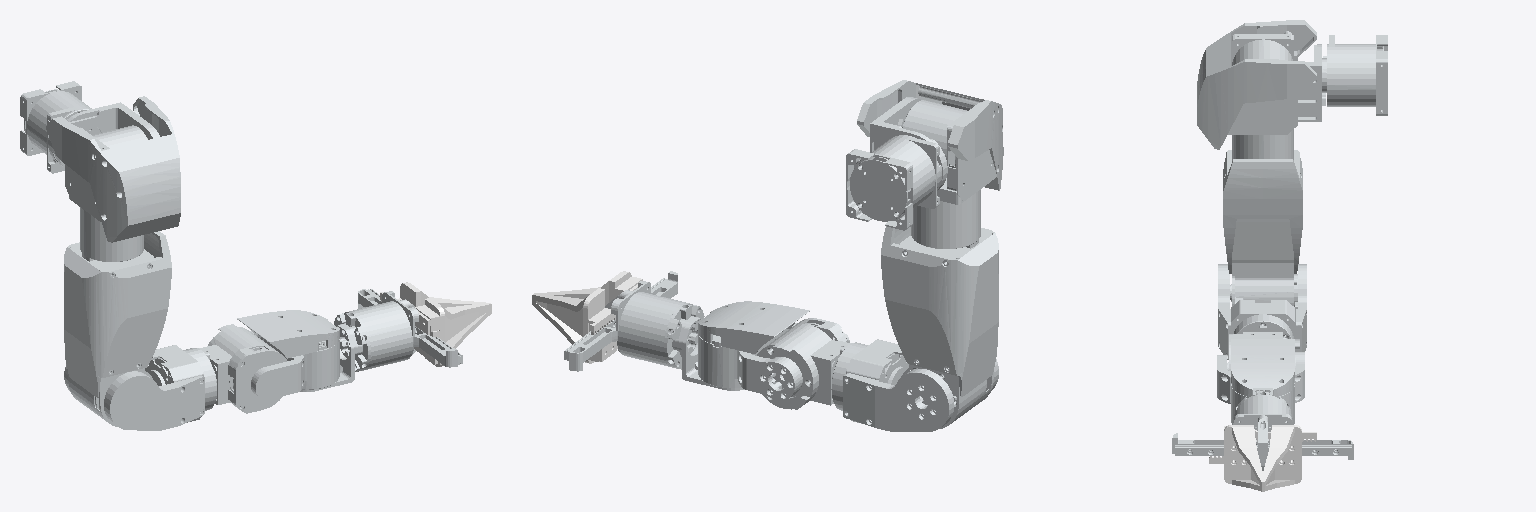
URDF robot description (x7sRIGHT):
<?xml version="1.0" encoding="utf-8"?>
<!-- This URDF was automatically created by SolidWorks to URDF Exporter! Originally created by [author] ([email redacted]) 
     Commit Version: 1.6.0-4-g7f85cfe  Build Version: 1.6.7995.38578
     For more information, please see http://wiki.ros.org/sw_urdf_exporter -->
<robot
  name="x7sRIGHT">
  <link
    name="base_link">
    <inertial>
      <origin
        xyz="-0.00022525 -0.028323 -1.2423E-08"
        rpy="0 0 0" />
      <mass
        value="0.42055" />
      <inertia
        ixx="0.00020"
        ixy="0.00000"
        ixz="0.00000"
        iyy="0.00020"
        iyz="0.00000"
        izz="0.00020" />
    </inertial>
    <visual>
      <origin
        xyz="0 0 0"
        rpy="0 0 0" />
      <geometry>
        <mesh
          filename="package://x7sRIGHT/meshes/base_link.STL" />
      </geometry>
      <material
        name="">
        <color
          rgba="0.89804 0.91765 0.92941 1" />
      </material>
    </visual>
    <collision>
      <origin
        xyz="0 0 0"
        rpy="0 0 0" />
      <geometry>
        <mesh
          filename="package://x7sRIGHT/meshes/base_link.STL" />
      </geometry>
    </collision>
  </link>
  <link
    name="link1">
    <inertial>
      <origin
        xyz="0.020311877665791 0.0282074621926083 0.000172803675324393"
        rpy="0 0 0" />
      <mass
        value="0.131891884746085" />
      <inertia
        ixx="0.00012"
        ixy="0.00004"
        ixz="0.00000"
        iyy="0.00009"
        iyz="0.00000"
        izz="0.00014" />
    </inertial>
    <visual>
      <origin
        xyz="0 0 0"
        rpy="0 0 0" />
      <geometry>
        <mesh
          filename="package://x7sRIGHT/meshes/link1.STL" />
      </geometry>
      <material
        name="">
        <color
          rgba="0.898039215686275 0.917647058823529 0.929411764705882 1" />
      </material>
    </visual>
    <collision>
      <origin
        xyz="0 0 0"
        rpy="0 0 0" />
      <geometry>
        <mesh
          filename="package://x7sRIGHT/meshes/link1.STL" />
      </geometry>
    </collision>
  </link>
  <joint
    name="joint1"
    type="revolute">
    <origin
      xyz="0 -0.05325 0"
      rpy="3.1416 0 0" />
    <parent
      link="base_link" />
    <child
      link="link1" />
    <axis
      xyz="0 1 0" />
    <limit
      lower="-10"
      upper="10"
      effort="100"
      velocity="1000" />
  </joint>
  <link
    name="link2">
    <inertial>
      <origin
        xyz="0.0244518746422159 0.00440118072836622 -0.0251861194488471"
        rpy="0 0 0" />
      <mass
        value="1.03161748745213" />
      <inertia
        ixx="0.00167"
        ixy="-0.00003"
        ixz="-0.00007"
        iyy="0.00166"
        iyz="0.00005"
        izz="0.00088" />
    </inertial>
    <visual>
      <origin
        xyz="0 0 0"
        rpy="0 0 0" />
      <geometry>
        <mesh
          filename="package://x7sRIGHT/meshes/link2.STL" />
      </geometry>
      <material
        name="">
        <color
          rgba="0.898039215686275 0.917647058823529 0.929411764705882 1" />
      </material>
    </visual>
    <collision>
      <origin
        xyz="0 0 0"
        rpy="0 0 0" />
      <geometry>
        <mesh
          filename="package://x7sRIGHT/meshes/link2.STL" />
      </geometry>
    </collision>
  </link>
  <joint
    name="joint2"
    type="revolute">
    <origin
      xyz="0.02725 0.063 0"
      rpy="3.1416 0 3.1416" />
    <parent
      link="link1" />
    <child
      link="link2" />
    <axis
      xyz="1 0 0" />
    <limit
      lower="-10"
      upper="10"
      effort="100"
      velocity="1000" />
  </joint>
  <link
    name="link3">
    <inertial>
      <origin
        xyz="0.00079596554089453 -0.00142730481079613 0.101622328145539"
        rpy="0 0 0" />
      <mass
        value="0.765521029717185" />
      <inertia
        ixx="0.00256"
        ixy="0.00000"
        ixz="-0.00009"
        iyy="0.00257"
        iyz="-0.00004"
        izz="0.00061" />
    </inertial>
    <visual>
      <origin
        xyz="0 0 0"
        rpy="0 0 0" />
      <geometry>
        <mesh
          filename="package://x7sRIGHT/meshes/link3.STL" />
      </geometry>
      <material
        name="">
        <color
          rgba="0.898039215686275 0.917647058823529 0.929411764705882 1" />
      </material>
    </visual>
    <collision>
      <origin
        xyz="0 0 0"
        rpy="0 0 0" />
      <geometry>
        <mesh
          filename="package://x7sRIGHT/meshes/link3.STL" />
      </geometry>
    </collision>
  </link>
  <joint
    name="joint3"
    type="revolute">
    <origin
      xyz="0.02725 0 -0.0865"
      rpy="3.1416 0 3.1416" />
    <parent
      link="link2" />
    <child
      link="link3" />
    <axis
      xyz="0 0 1" />
    <limit
      lower="-10"
      upper="10"
      effort="100"
      velocity="1000" />
  </joint>
  <link
    name="link4">
    <inertial>
      <origin
        xyz="0.0572757023214644 -0.0269067500949368 -0.012469744297256"
        rpy="0 0 0" />
      <mass
        value="0.512053649682313" />
      <inertia
        ixx="0.00045"
        ixy="0.00000"
        ixz="-0.00008"
        iyy="0.00061"
        iyz="0.00000"
        izz="0.00079" />
    </inertial>
    <visual>
      <origin
        xyz="0 0 0"
        rpy="0 0 0" />
      <geometry>
        <mesh
          filename="package://x7sRIGHT/meshes/link4.STL" />
      </geometry>
      <material
        name="">
        <color
          rgba="0.898039215686275 0.917647058823529 0.929411764705882 1" />
      </material>
    </visual>
    <collision>
      <origin
        xyz="0 0 0"
        rpy="0 0 0" />
      <geometry>
        <mesh
          filename="package://x7sRIGHT/meshes/link4.STL" />
      </geometry>
    </collision>
  </link>
  <joint
    name="joint4"
    type="revolute">
    <origin
      xyz="0 -0.02725 0.1435"
      rpy="-3.1416 0 0" />
    <parent
      link="link3" />
    <child
      link="link4" />
    <axis
      xyz="0 1 0" />
    <limit
      lower="-10"
      upper="10"
      effort="100"
      velocity="1000" />
  </joint>
  <link
    name="link5">
    <inertial>
      <origin
        xyz="0.0458969709559433 0.000535552755432558 -2.35788965874395E-05"
        rpy="0 0 0" />
      <mass
        value="0.487431771518004" />
      <inertia
        ixx="0.00024"
        ixy="0.00000"
        ixz="0.00000"
        iyy="0.00027"
        iyz="0.00000"
        izz="0.00029" />
    </inertial>
    <visual>
      <origin
        xyz="0 0 0"
        rpy="0 0 0" />
      <geometry>
        <mesh
          filename="package://x7sRIGHT/meshes/link5.STL" />
      </geometry>
      <material
        name="">
        <color
          rgba="0.898039215686275 0.917647058823529 0.929411764705882 1" />
      </material>
    </visual>
    <collision>
      <origin
        xyz="0 0 0"
        rpy="0 0 0" />
      <geometry>
        <mesh
          filename="package://x7sRIGHT/meshes/link5.STL" />
      </geometry>
    </collision>
  </link>
  <joint
    name="joint5"
    type="revolute">
    <origin
      xyz="0.0945 -0.02725 -0.015"
      rpy="0 0 0" />
    <parent
      link="link4" />
    <child
      link="link5" />
    <axis
      xyz="1 0 0" />
    <limit
      lower="-10"
      upper="10"
      effort="100"
      velocity="1000" />
  </joint>
  <link
    name="link6">
    <inertial>
      <origin
        xyz="0.0569901700373937 -0.0269170235590268 0.00134170614722395"
        rpy="0 0 0" />
      <mass
        value="0.438499751617276" />
      <inertia
        ixx="0.00026"
        ixy="-0.00001"
        ixz="-0.00002"
        iyy="0.00034"
        iyz="0.00000"
        izz="0.00043" />
    </inertial>
    <visual>
      <origin
        xyz="0 0 0"
        rpy="0 0 0" />
      <geometry>
        <mesh
          filename="package://x7sRIGHT/meshes/link6.STL" />
      </geometry>
      <material
        name="">
        <color
          rgba="0.898039215686275 0.917647058823529 0.929411764705882 1" />
      </material>
    </visual>
    <collision>
      <origin
        xyz="0 0 0"
        rpy="0 0 0" />
      <geometry>
        <mesh
          filename="package://x7sRIGHT/meshes/link6.STL" />
      </geometry>
    </collision>
  </link>
  <joint
    name="joint6"
    type="revolute">
    <origin
      xyz="0.05 0.02725 0"
      rpy="0 0 0" />
    <parent
      link="link5" />
    <child
      link="link6" />
    <axis
      xyz="0 1 0" />
    <limit
      lower="-10"
      upper="10"
      effort="100"
      velocity="1000" />
  </joint>
  <link
    name="link7">
    <inertial>
      <origin
        xyz="0.078237 2.2769E-05 0.020391"
        rpy="0 0 0" />
      <mass
        value="0.47185" />
      <inertia
        ixx="0.00040"
        ixy="0.00000"
        ixz="0.00006"
        iyy="0.00043"
        iyz="0.00000"
        izz="0.00064" />
    </inertial>
    <visual>
      <origin
        xyz="0 0 0"
        rpy="0 0 0" />
      <geometry>
        <mesh
          filename="package://x7sRIGHT/meshes/link7.STL" />
      </geometry>
      <material
        name="">
        <color
          rgba="0.89804 0.91765 0.92941 1" />
      </material>
    </visual>
    <collision>
      <origin
        xyz="0 0 0"
        rpy="0 0 0" />
      <geometry>
        <mesh
          filename="package://x7sRIGHT/meshes/link7.STL" />
      </geometry>
    </collision>
  </link>
  <joint
    name="joint7"
    type="revolute">
    <origin
      xyz="0.066 -0.02725 -0.022"
      rpy="0 0 0" />
    <parent
      link="link6" />
    <child
      link="link7" />
    <axis
      xyz="0 0 -1" />
    <limit
      lower="-10"
      upper="10"
      effort="100"
      velocity="1000" />
  </joint>
  <link
    name="link8">
    <inertial>
      <origin
        xyz="-0.00035522 -0.007827 -0.0029883"
        rpy="0 0 0" />
      <mass
        value="0.064798" />
      <inertia
        ixx="0.00002"
        ixy="0.00000"
        ixz="0.00000"
        iyy="0.00003"
        iyz="0.00000"
        izz="0.00003" />
    </inertial>
    <visual>
      <origin
        xyz="0 0 0"
        rpy="0 0 0" />
      <geometry>
        <mesh
          filename="package://x7sRIGHT/meshes/link8.STL" />
      </geometry>
      <material
        name="">
        <color
          rgba="1 1 1 1" />
      </material>
    </visual>
    <collision>
      <origin
        xyz="0 0 0"
        rpy="0 0 0" />
      <geometry>
        <mesh
          filename="package://x7sRIGHT/meshes/link8.STL" />
      </geometry>
    </collision>
  </link>
  <joint
    name="joint8"
    type="prismatic">
    <origin
      xyz="0.12737 0.024896 0.021756"
      rpy="0 0 0" />
    <parent
      link="link7" />
    <child
      link="link8" />
    <axis
      xyz="0 1 0" />
    <limit
      lower="0"
      upper="0.044"
      effort="100"
      velocity="1000" />
  </joint>
  <link
    name="link9">
    <inertial>
      <origin
        xyz="-0.000355223470266619 0.0078276874106032 0.00242005652832589"
        rpy="0 0 0" />
      <mass
        value="0.0647981725781684" />
      <inertia
        ixx="0.00002"
        ixy="0.00000"
        ixz="0.00000"
        iyy="0.00003"
        iyz="0.00000"
        izz="0.00003" />
    </inertial>
    <visual>
      <origin
        xyz="0 0 0"
        rpy="0 0 0" />
      <geometry>
        <mesh
          filename="package://x7sRIGHT/meshes/link9.STL" />
      </geometry>
      <material
        name="">
        <color
          rgba="1 1 1 1" />
      </material>
    </visual>
    <collision>
      <origin
        xyz="0 0 0"
        rpy="0 0 0" />
      <geometry>
        <mesh
          filename="package://x7sRIGHT/meshes/link9.STL" />
      </geometry>
    </collision>
  </link>
  <joint
    name="joint9"
    type="prismatic">
    <origin
      xyz="0.12737 -0.0249 0.021756"
      rpy="0 0 0" />
    <parent
      link="link7" />
    <child
      link="link9" />
    <axis
      xyz="0 -1 0" />
    <limit
      lower="0"
      upper="0.044"
      effort="100"
      velocity="1000" />
  </joint>
</robot>

--- What the picture shows (computed from the rendered views, not written in the file) ---
The picture shows the robot from 3 angles, left to right: view 1: azimuth 30°, elevation 25°; view 2: azimuth 150°, elevation 25°; view 3: azimuth 270°, elevation 25°; orthographic projection.
Robot: x7sRIGHT — 10 links, 9 joints (7 revolute, 2 prismatic); root link base_link; default pose: all joints at 0.
Links seen in each view (by area): view 1: link2, link3, link4, link7, link6, link5, base_link, link9, link1, link8; view 2: link3, link2, link4, link7, link6, base_link, link5, link8, link1, link9; view 3: link2, link3, link6, base_link, link4, link7, link9, link8, link1, link5.
Boxes of the visible links, bbox=[...] form: link2: bbox=[46, 96, 180, 261]; link3: bbox=[64, 231, 171, 426]; link4: bbox=[64, 345, 216, 430]; link7: bbox=[300, 289, 462, 391]; link6: bbox=[237, 310, 339, 399]; link5: bbox=[199, 324, 286, 413]; base_link: bbox=[20, 81, 91, 173]; link9: bbox=[380, 292, 491, 366]; link1: bbox=[54, 102, 159, 167]; link8: bbox=[397, 282, 487, 364]; link3: bbox=[881, 226, 998, 428]; link2: bbox=[857, 80, 1003, 248]; link4: bbox=[831, 339, 998, 431]; link7: bbox=[564, 271, 744, 390]; link6: bbox=[698, 301, 809, 400]; base_link: bbox=[846, 135, 941, 230]; link5: bbox=[757, 318, 850, 409]; link8: bbox=[532, 288, 617, 363]; link1: bbox=[870, 97, 947, 190]; link9: bbox=[534, 271, 642, 334]; link2: bbox=[1197, 20, 1316, 160]; link3: bbox=[1223, 150, 1302, 306]; link6: bbox=[1217, 339, 1304, 424]; base_link: bbox=[1323, 35, 1387, 115]; link4: bbox=[1218, 264, 1306, 359]; link7: bbox=[1172, 392, 1353, 470]; link9: bbox=[1224, 425, 1316, 491]; link8: bbox=[1209, 425, 1301, 491]; link1: bbox=[1298, 44, 1326, 121]; link5: bbox=[1227, 326, 1299, 370].
Bounding box of the posed robot: 0.4508 × 0.2065 × 0.3161 m (x, y, z).
10 mesh visuals loaded from 10 distinct referenced files (10 binary STL).